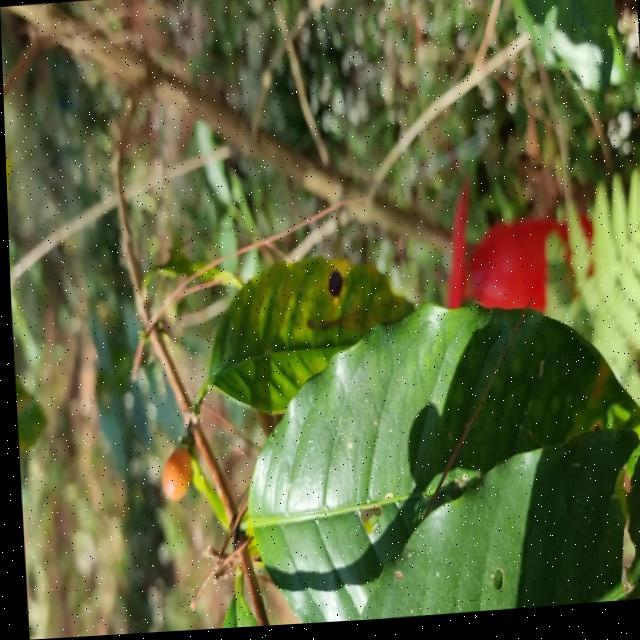leaves: (234, 290, 640, 625), (176, 212, 414, 436)
